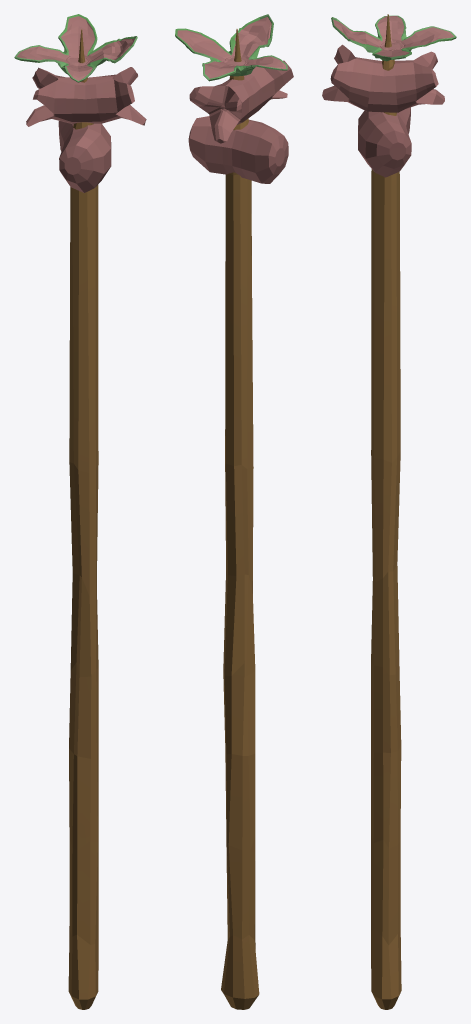
Rendered from campfire_stick_for_sausage.glb.
3 views of the same model, side by side, from view 1: azimuth 90°, elevation 25°; view 2: azimuth 150°, elevation 25°; view 3: azimuth 270°, elevation 25° (orthographic).
Parts seen in each view (by area): view 1: stick, sausage, flower, sausage_2; view 2: stick, sausage_2, sausage, flower; view 3: stick, sausage, sausage_2, flower.
Part boxes in pixels (bbox=[...]): stick: bbox=[68, 29, 98, 1009]; sausage: bbox=[26, 67, 146, 126]; flower: bbox=[14, 14, 137, 82]; sausage_2: bbox=[58, 121, 111, 192]; stick: bbox=[221, 29, 259, 1009]; sausage_2: bbox=[188, 116, 288, 183]; sausage: bbox=[189, 60, 293, 143]; flower: bbox=[175, 14, 287, 81]; stick: bbox=[371, 14, 401, 1009]; sausage: bbox=[322, 44, 444, 112]; sausage_2: bbox=[358, 107, 411, 177]; flower: bbox=[331, 15, 456, 61].
Bounding box in the file's own units: 0.27 × 2.25 × 0.2764.
1 material, 1 textured.
